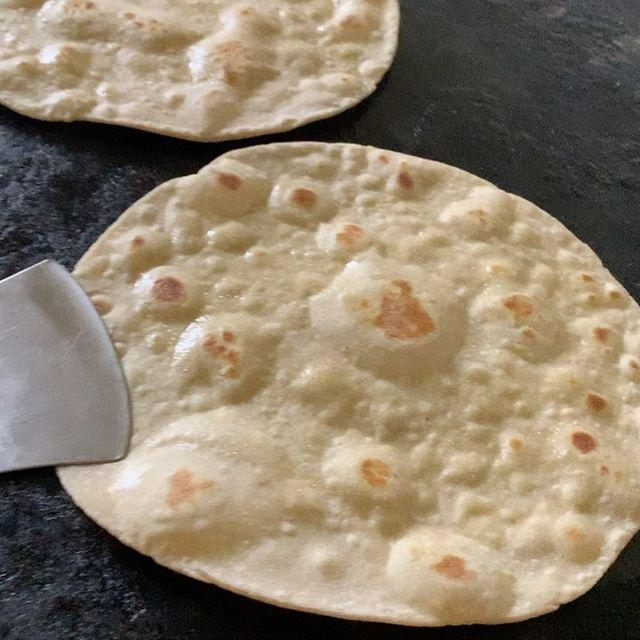Roti: (48, 162, 622, 613), (6, 6, 411, 141)
